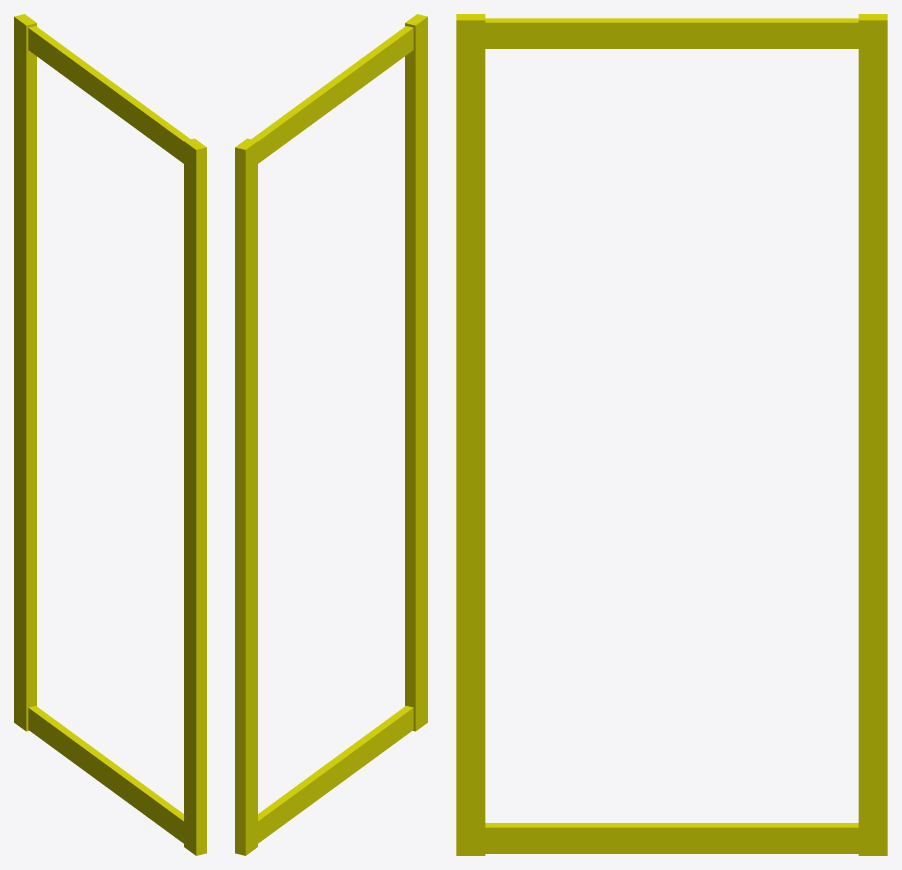
The model's file is Shop_Door_01_Door.fbx.
The picture shows the model from 3 angles, left to right: view 1: azimuth 30°, elevation 25°; view 2: azimuth 150°, elevation 25°; view 3: azimuth 270°, elevation 25°; orthographic projection. The views are drawn at different scales.
Parts seen in each view (by area): view 1: Shop_Door_01_Door; view 2: Shop_Door_01_Door; view 3: Shop_Door_01_Door.
Part boxes in pixels (left/top/right/bottom): Shop_Door_01_Door: left=14, top=14, right=206, bottom=855; Shop_Door_01_Door: left=235, top=14, right=427, bottom=855; Shop_Door_01_Door: left=456, top=14, right=887, bottom=855.
Size of the model in its own units: 4.2 by 264 by 123.
